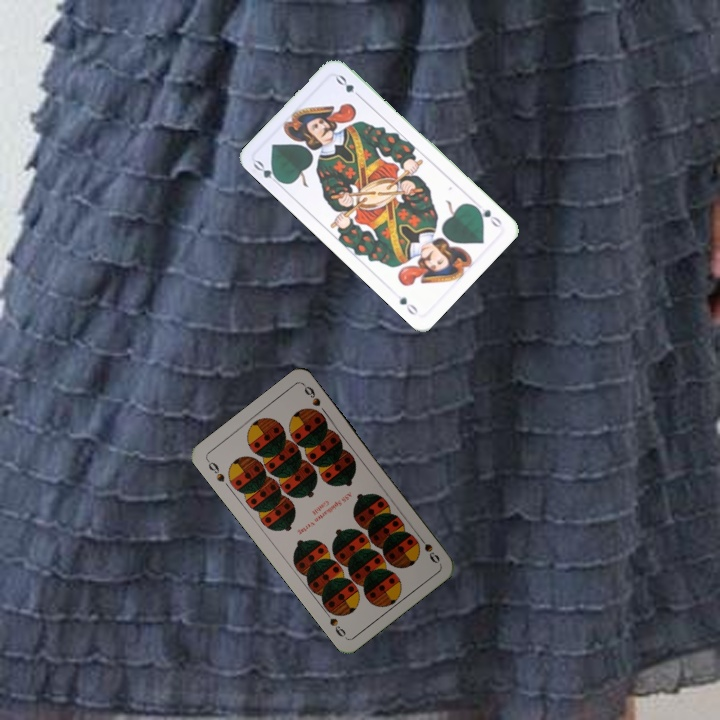GO: (249, 156, 286, 189), (470, 201, 505, 230)
S9: (413, 530, 443, 566), (203, 456, 227, 484)
